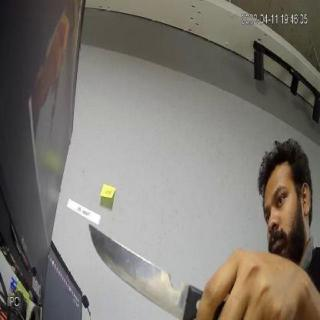knife: (87, 212, 193, 320)
